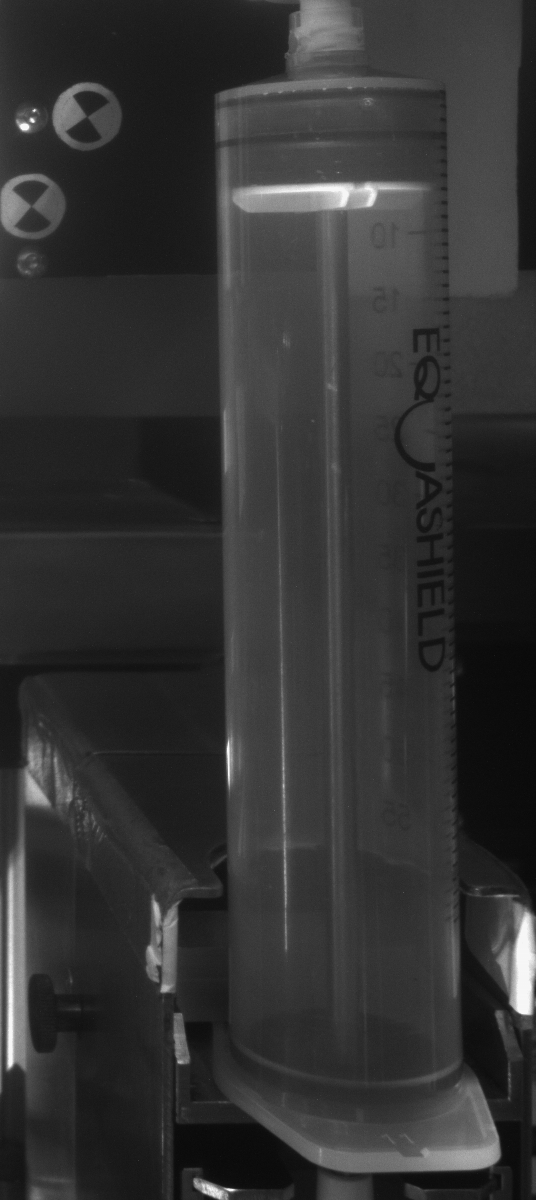piston: (213, 108, 449, 214)
